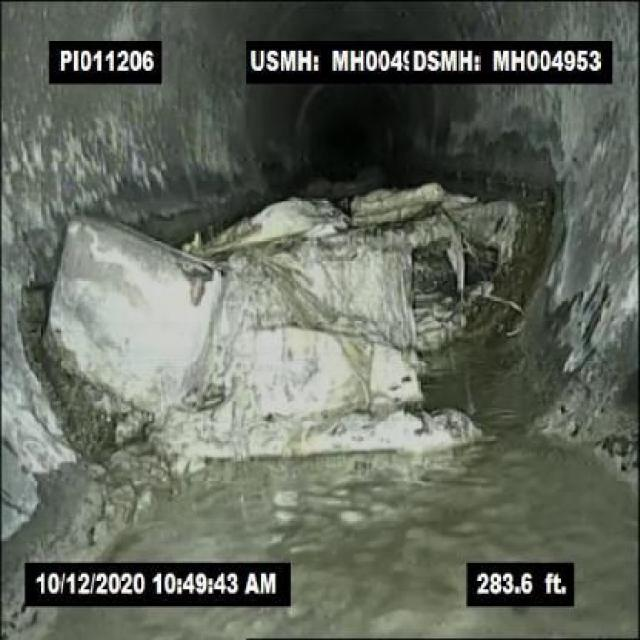Obstacle: (235, 183, 488, 455), (41, 209, 232, 465)
